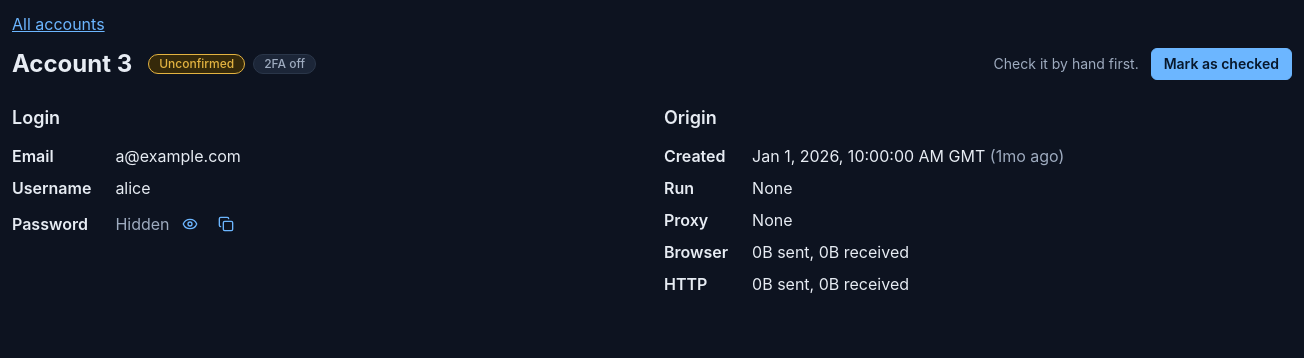
Test: page › shows the error of a refused confirm and reads nothing
Click the button "Mark as checked" at (1221, 64), box [1151,48,1292,80]
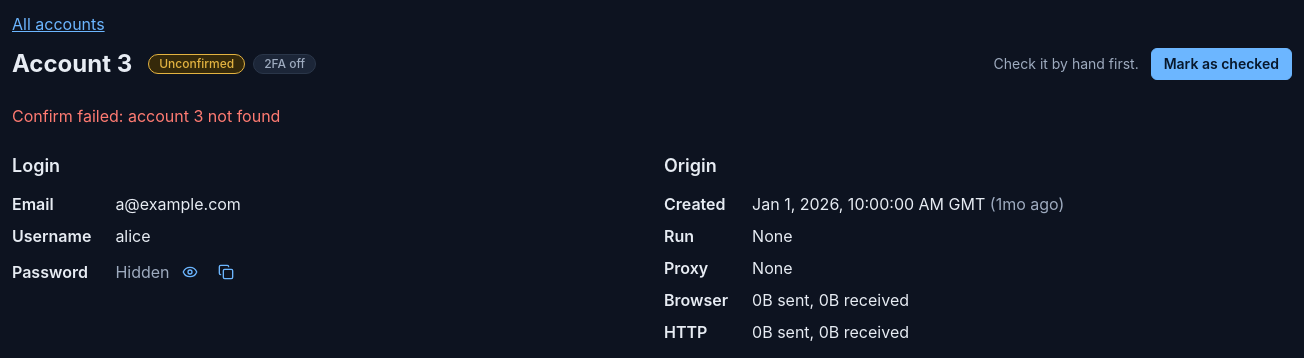
Check: the message reads "Confirm failed: account 3 not found", box [12,106,280,126]
